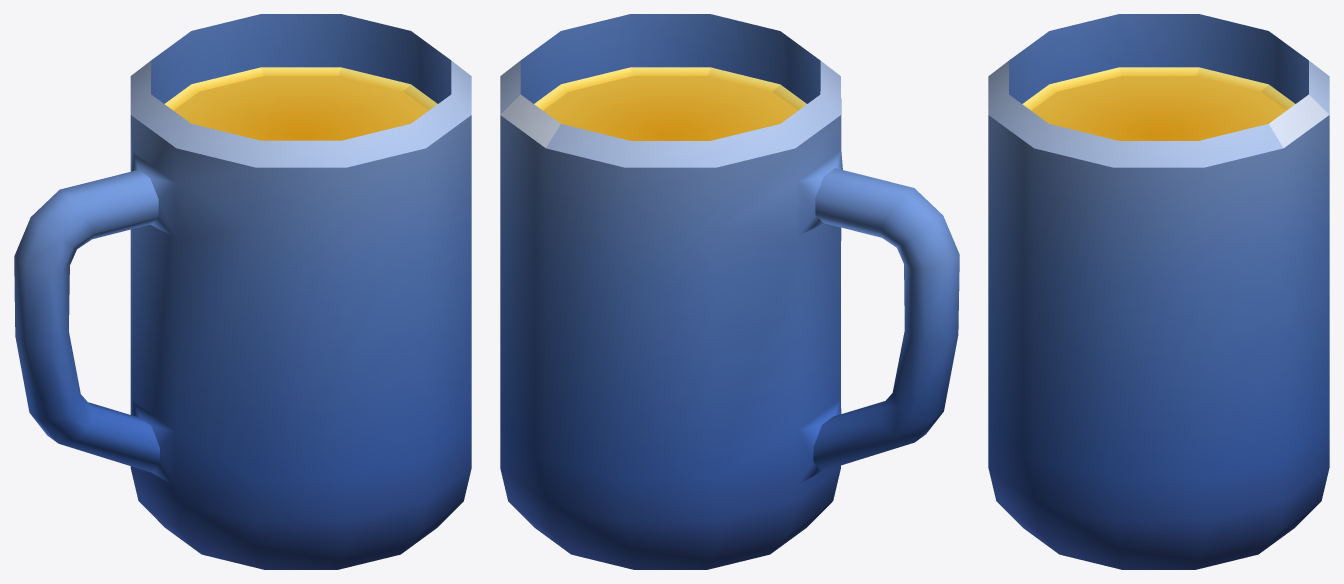
The model's file is m_GlassMug01_Tea06.fbx.
3 views of the same model, side by side, from view 1: azimuth 30°, elevation 25°; view 2: azimuth 150°, elevation 25°; view 3: azimuth 270°, elevation 25° (orthographic).
Visible parts, largest first — view 1: m_GlassMug01_Tea06; view 2: m_GlassMug01_Tea06; view 3: m_GlassMug01_Tea06.
Boxes of the visible parts, <box> form: m_GlassMug01_Tea06: <box>14,14,471,569</box>; m_GlassMug01_Tea06: <box>500,14,959,569</box>; m_GlassMug01_Tea06: <box>988,14,1329,569</box>.
Bounding box in the file's own units: 11.37 × 10.99 × 7.81.
